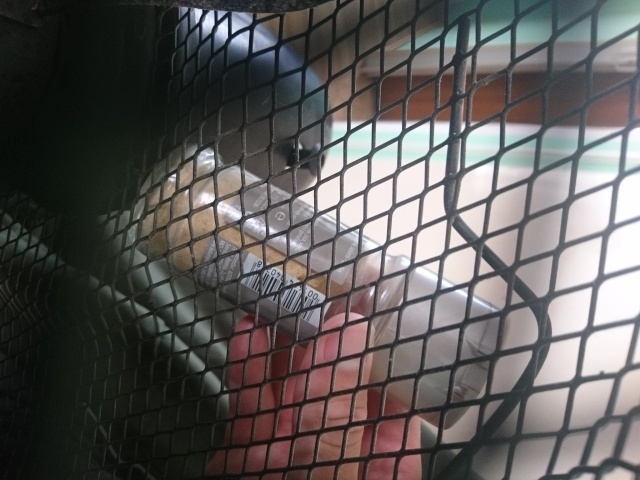Kotanyi Garlic Granules 70g: (124, 138, 514, 433)
